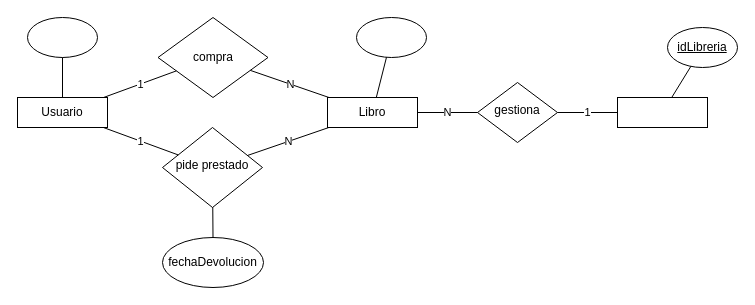
This 755x305 diagram has some shape labels left out. The shapes that lost their labels are listed below. From the top down, each one's centre as x and y in pixels, then its label:
At point 62,37: "idUsuario".
At point 391,37: "idLibro".
At point 662,112: "Libreria".
